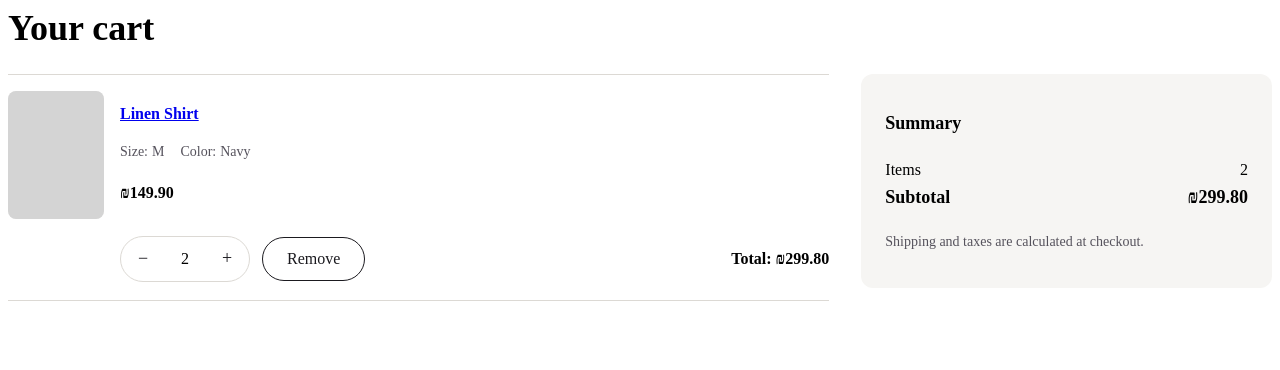
SCRUM-42 error feedback with real backend error responses › cart changes › after a 500 INTERNAL_ERROR the cart is reloaded from the server and no success is shown
The width and height of the screenshot is (1280, 370).
Check: the list named "Cart items" is shown, box [8,74,829,301]
Click the button named "Increase quantity": (227, 259) [205,237,249,281]
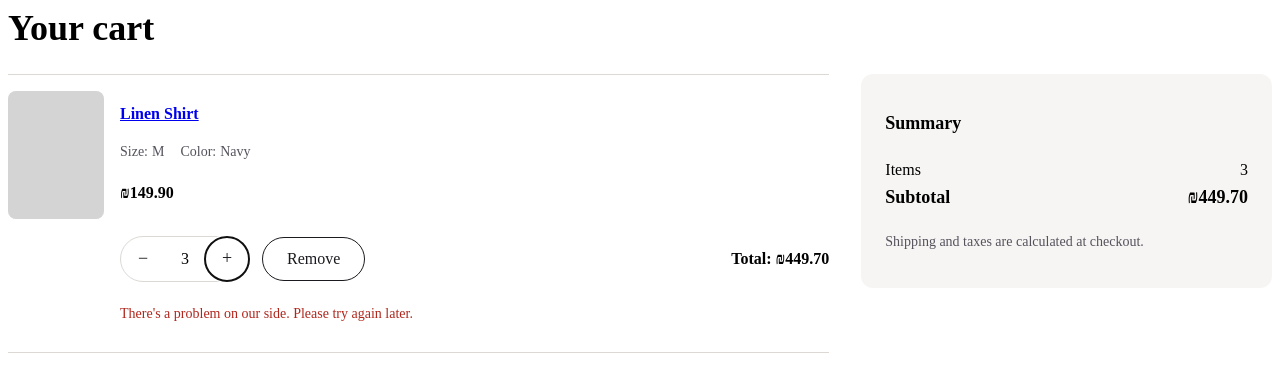
Check: the message shows "There's a problem on our side", box [120,306,413,321]
Check: the element named "Quantity" shows "3", box [181,250,189,267]
